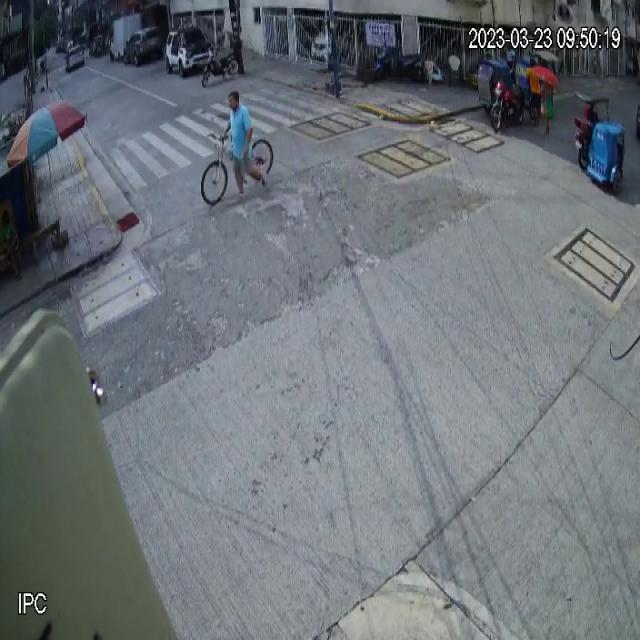Tricycle: (574, 88, 626, 194), (476, 58, 524, 132)
